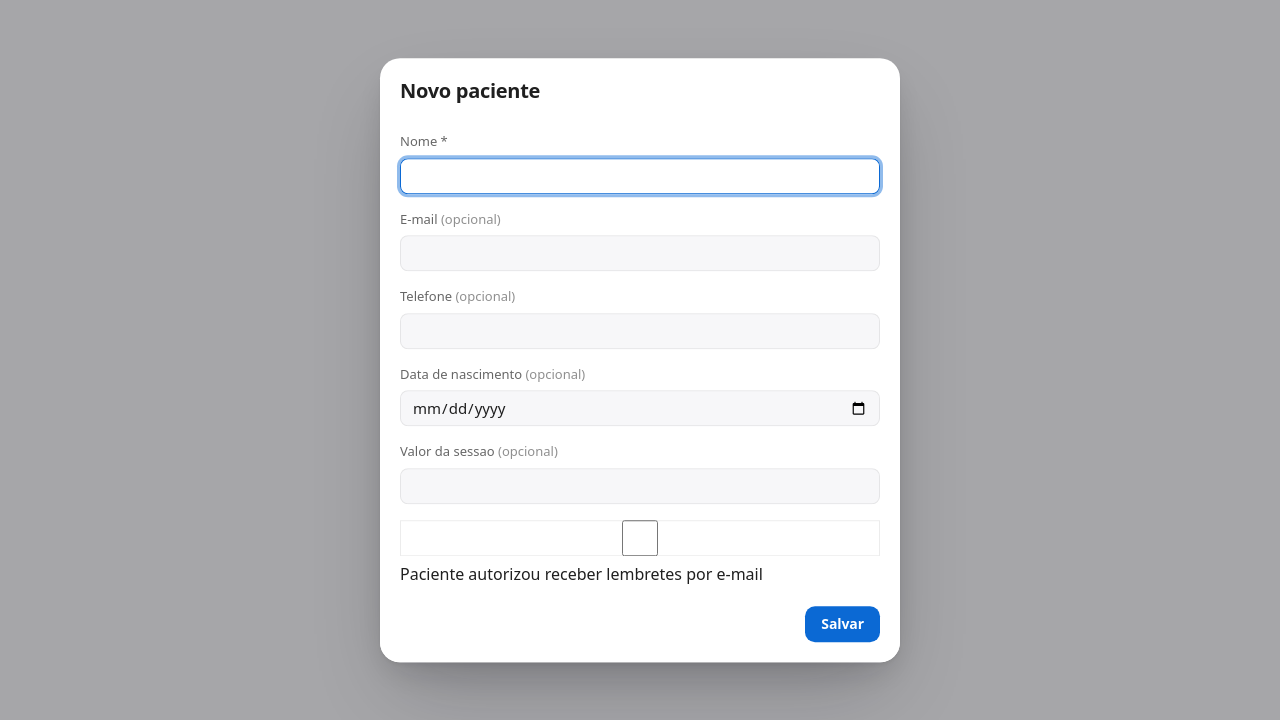
Test: dialogo de paciente › valor com tres casas e recusado ANTES do envio — a 6.3 vale nos dois lados
The image size is (1280, 720).
Type "Helena Vaz" into the field labelled "Nome *" at (640, 176), box [400,158,880,194]
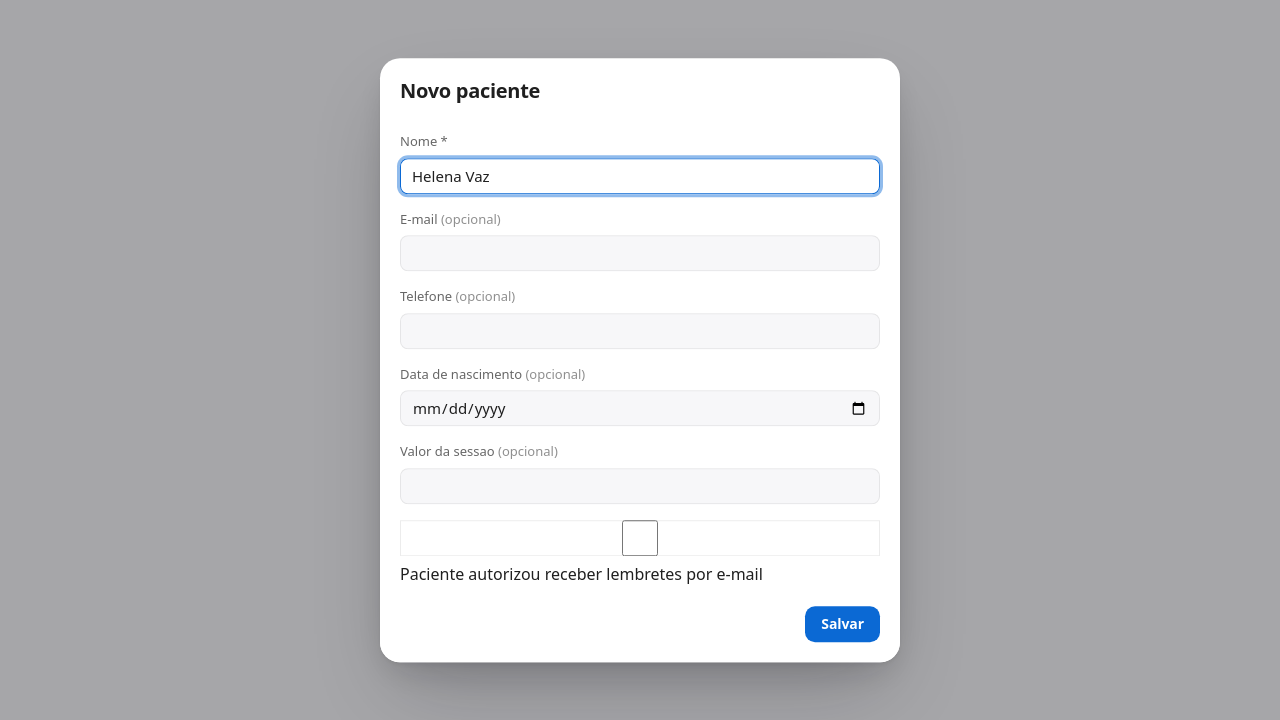
Type "180.005" into the number field labelled "Valor da sessao (opcional)" at (640, 486), box [400,468,880,504]
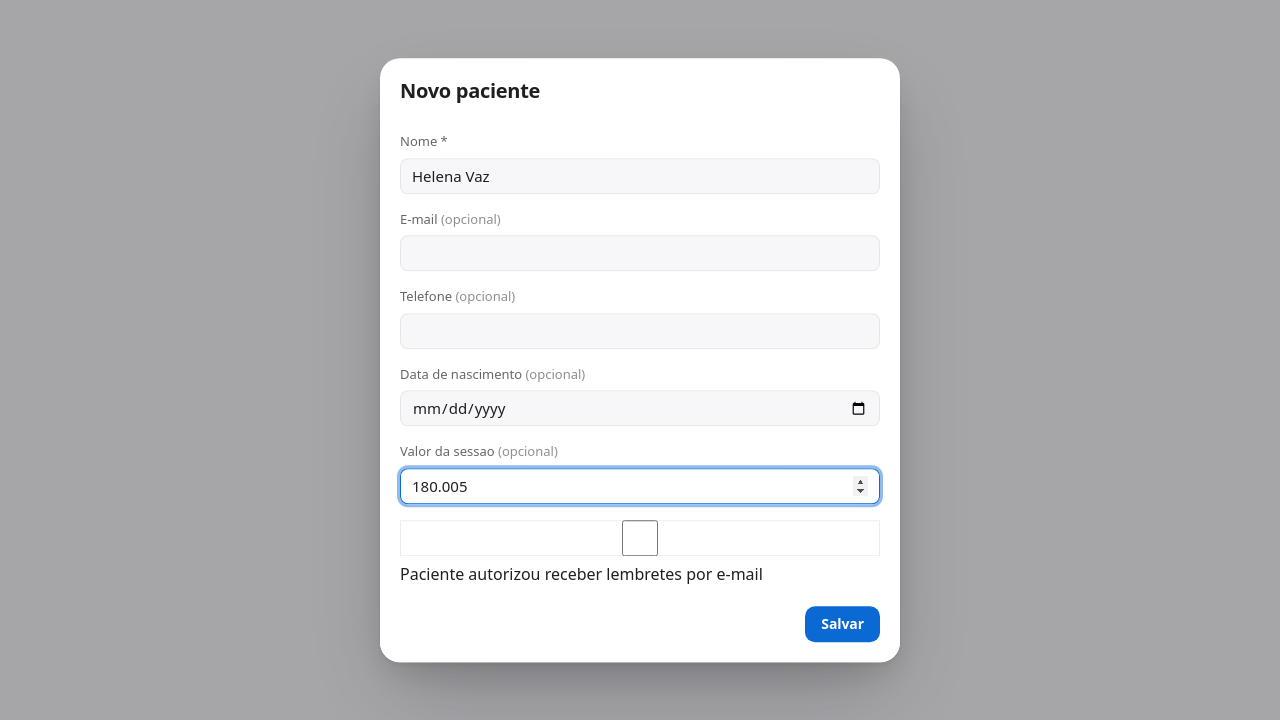
Click the button "Salvar" at (843, 624), box [805,606,880,642]
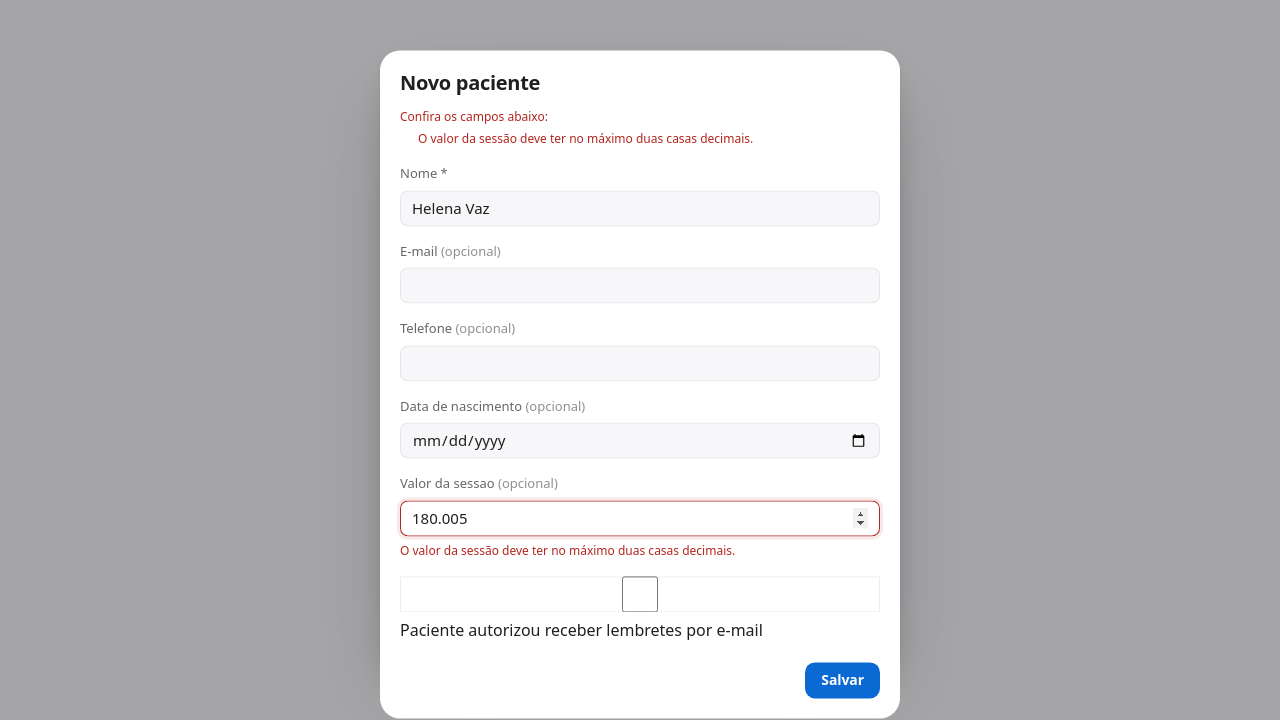
Check: the text "O valor da sessão deve ter no máximo duas casas decimais." is shown, box [400,542,735,559]
